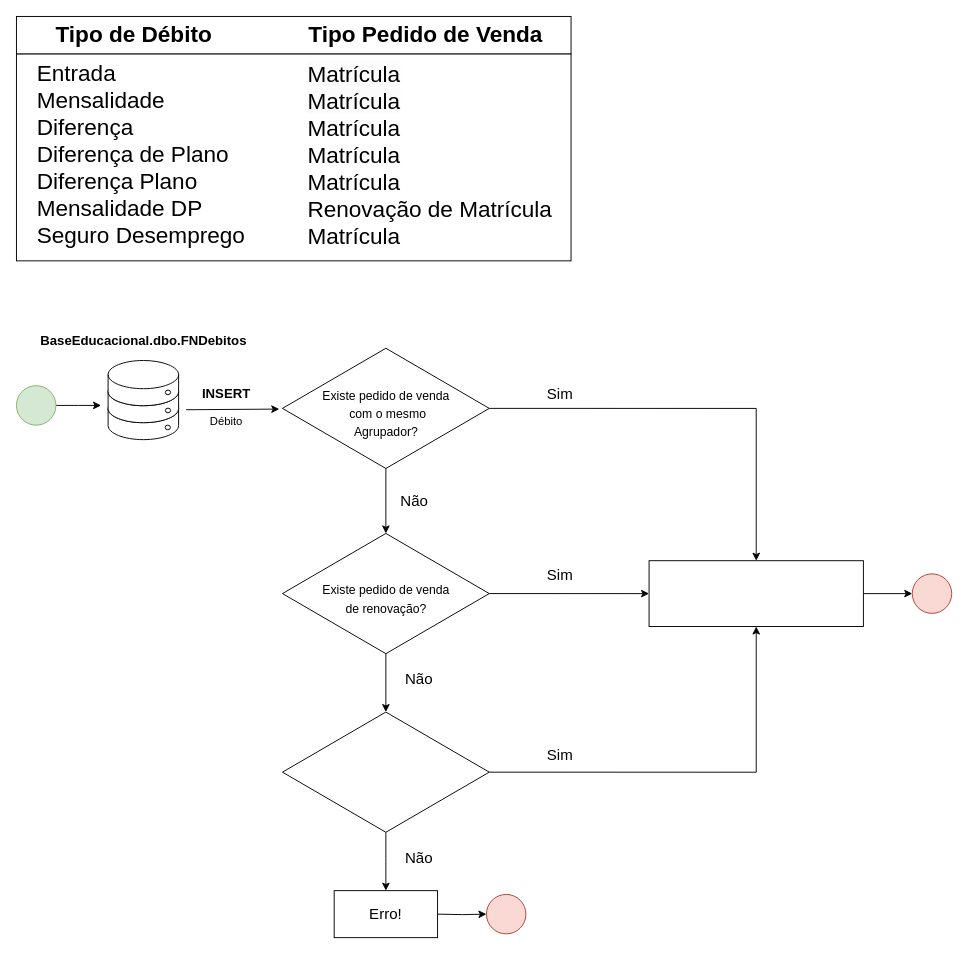
The diagram is 968 pixels wide and 954 high, and some of its shapes have lost their labels. The shapes that lost their labels are listed below. From the top down, each one's centre as x and y in pixels, then its label:
At point 755,593: "Importa agendamento de débito no pedido de venda".
At point 385,771: "Existe pedido de venda de matrícula?".
